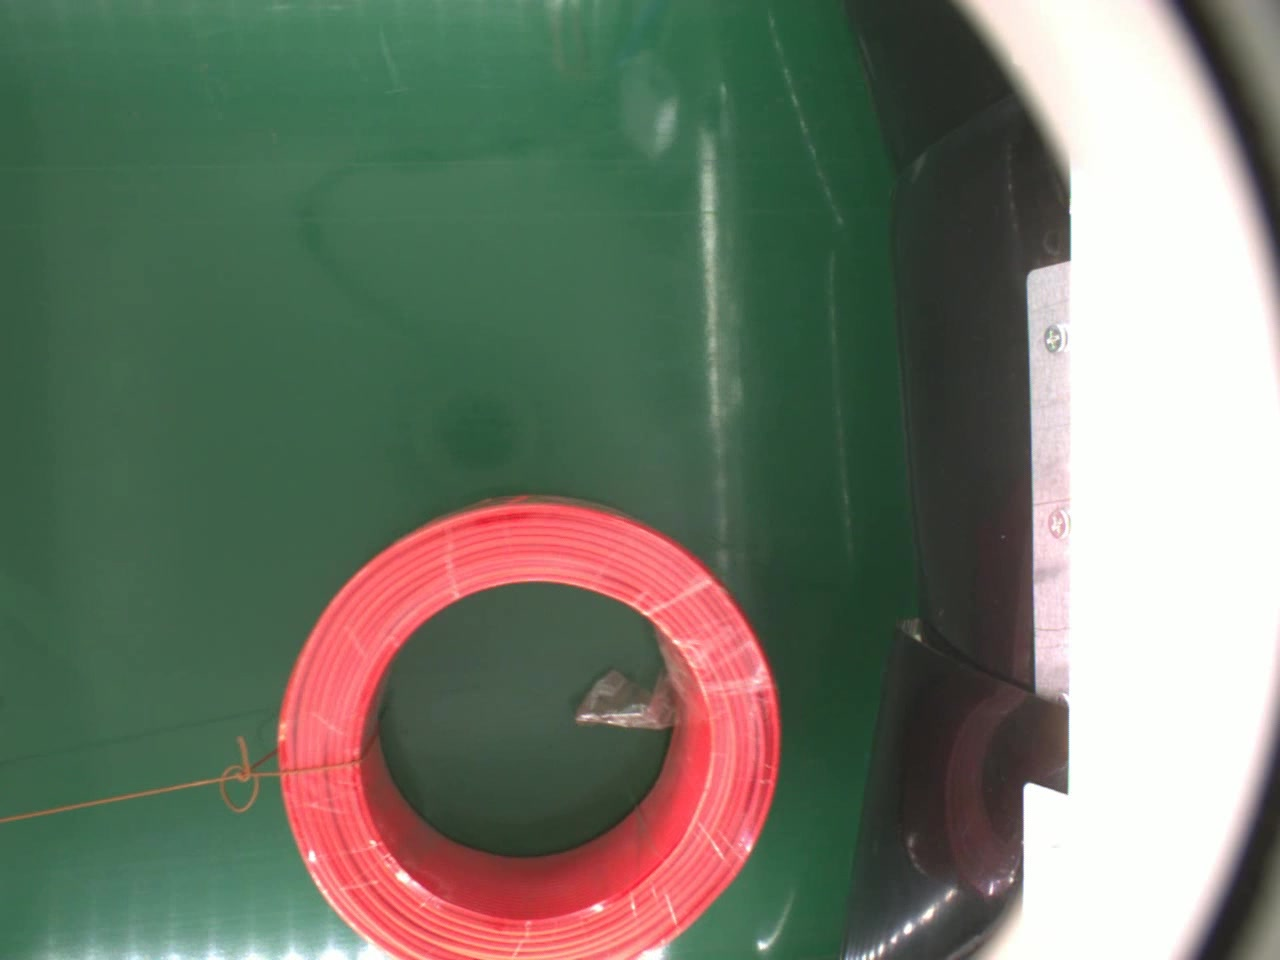red: (269, 497, 786, 956)
